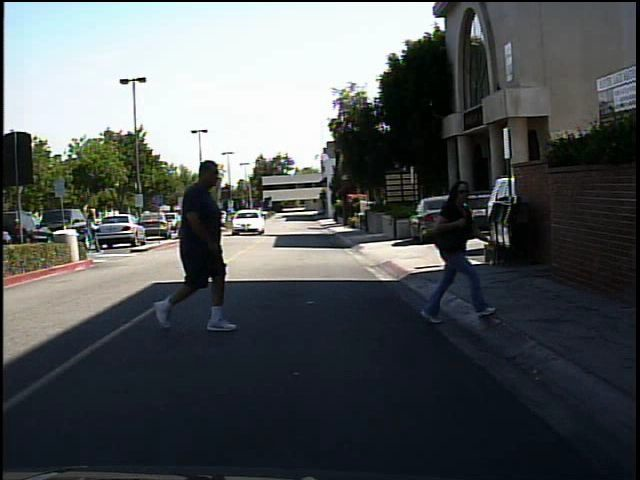person: (149, 155, 251, 335), (418, 164, 494, 326), (82, 203, 102, 256)
